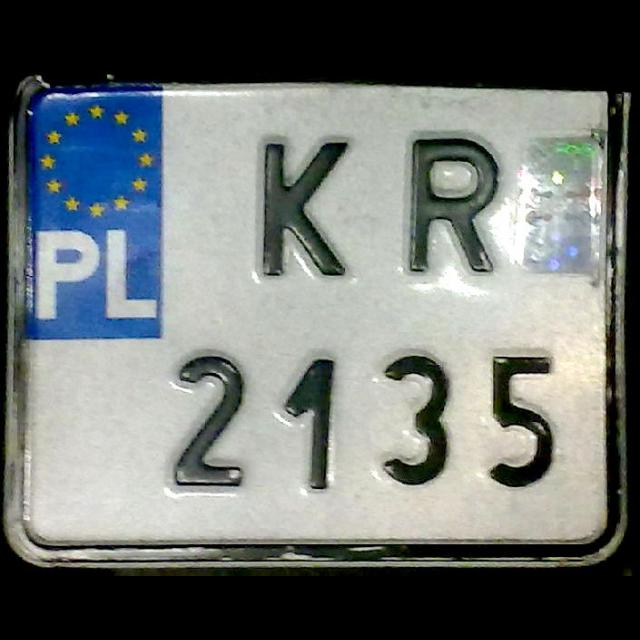pl_license_plate: (26, 88, 606, 542)
